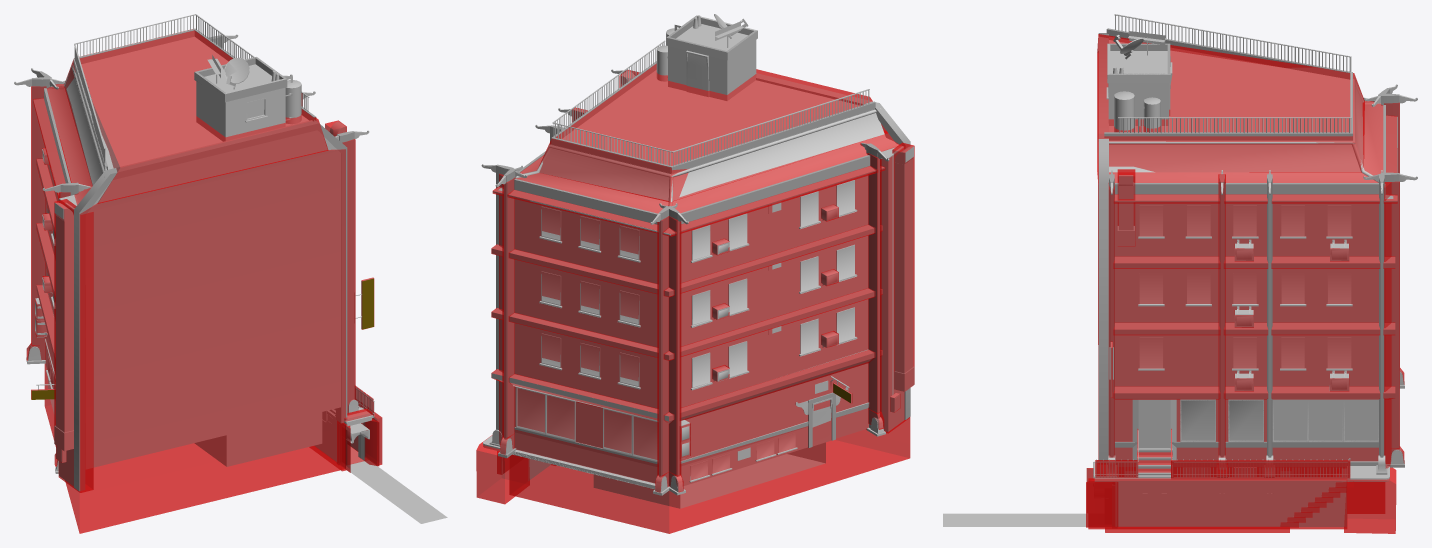
Rendered from CT_building_035.dae.
3 renders of one model, left to right at view 1: azimuth 30°, elevation 25°; view 2: azimuth 150°, elevation 25°; view 3: azimuth 270°, elevation 25°, orthographic. The views are drawn at different scales.
Parts seen in each view (by area): view 1: colmesh-2, _035_building800, _035_building100; view 2: colmesh-2, _035_building800, _035_building100, _035_building400; view 3: _035_building800, colmesh-2, _035_building400, _035_building100.
Boxes of the visible parts, x1,y1,x2,y2 form: colmesh-2: (26,29,382,533); _035_building800: (14,14,447,523); _035_building100: (14,15,368,470); colmesh-2: (476,64,914,533); _035_building800: (481,14,914,508); _035_building100: (483,16,912,492); _035_building400: (542,56,856,479); _035_building800: (943,14,1417,526); colmesh-2: (1086,34,1404,533); _035_building400: (1138,28,1378,476); _035_building100: (1101,31,1416,526).
Size of the model in its own units: 187 by 245 by 241.
